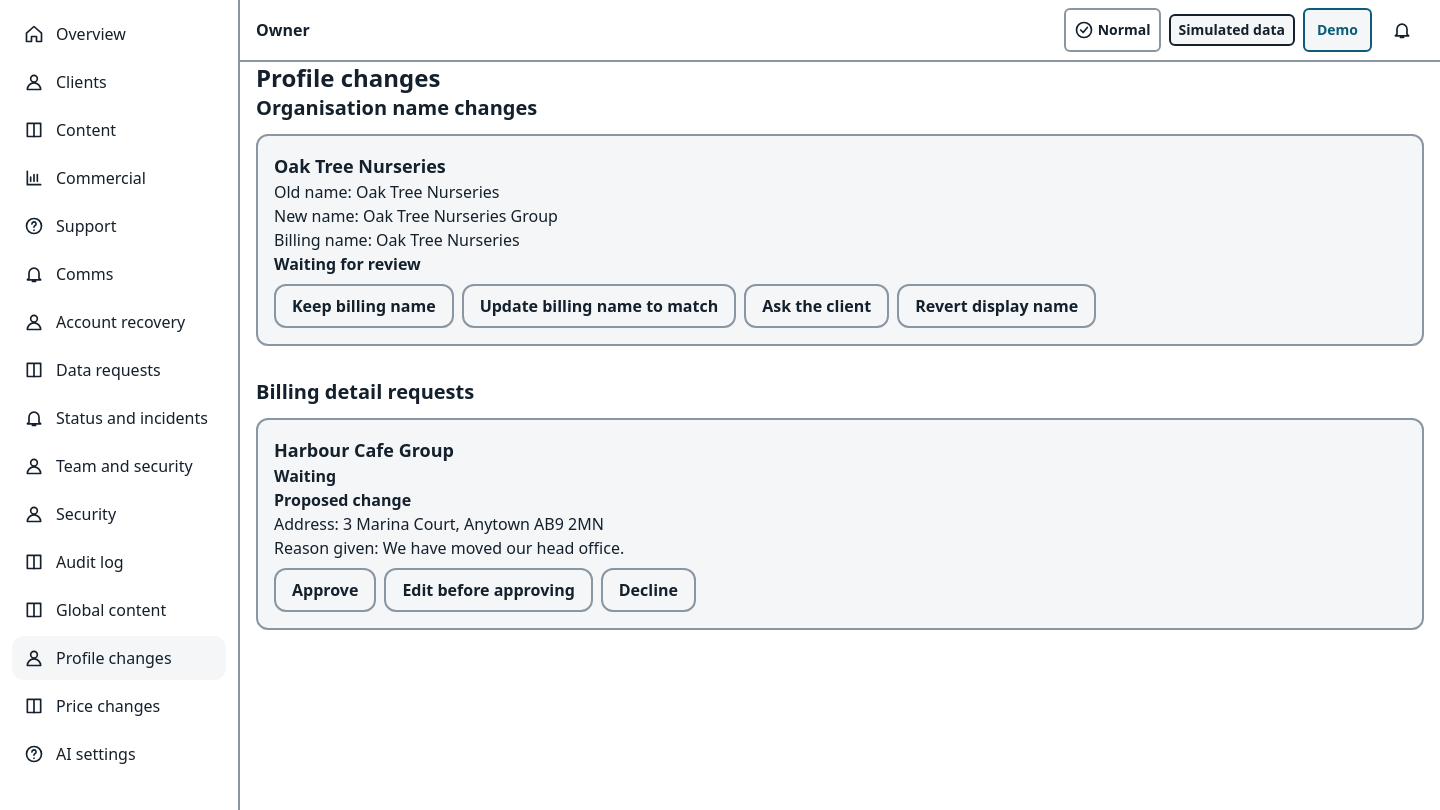
Test case: P24 Profile changes: name changes › Keep billing name records the decision, leaves the billing name alone and confirms
This screenshot has width=1440, height=810.
Expected: the heading "Profile changes" is shown, [256,62,440,94]
Click the button "Keep billing name" at [364, 306], box [274,284,454,328]
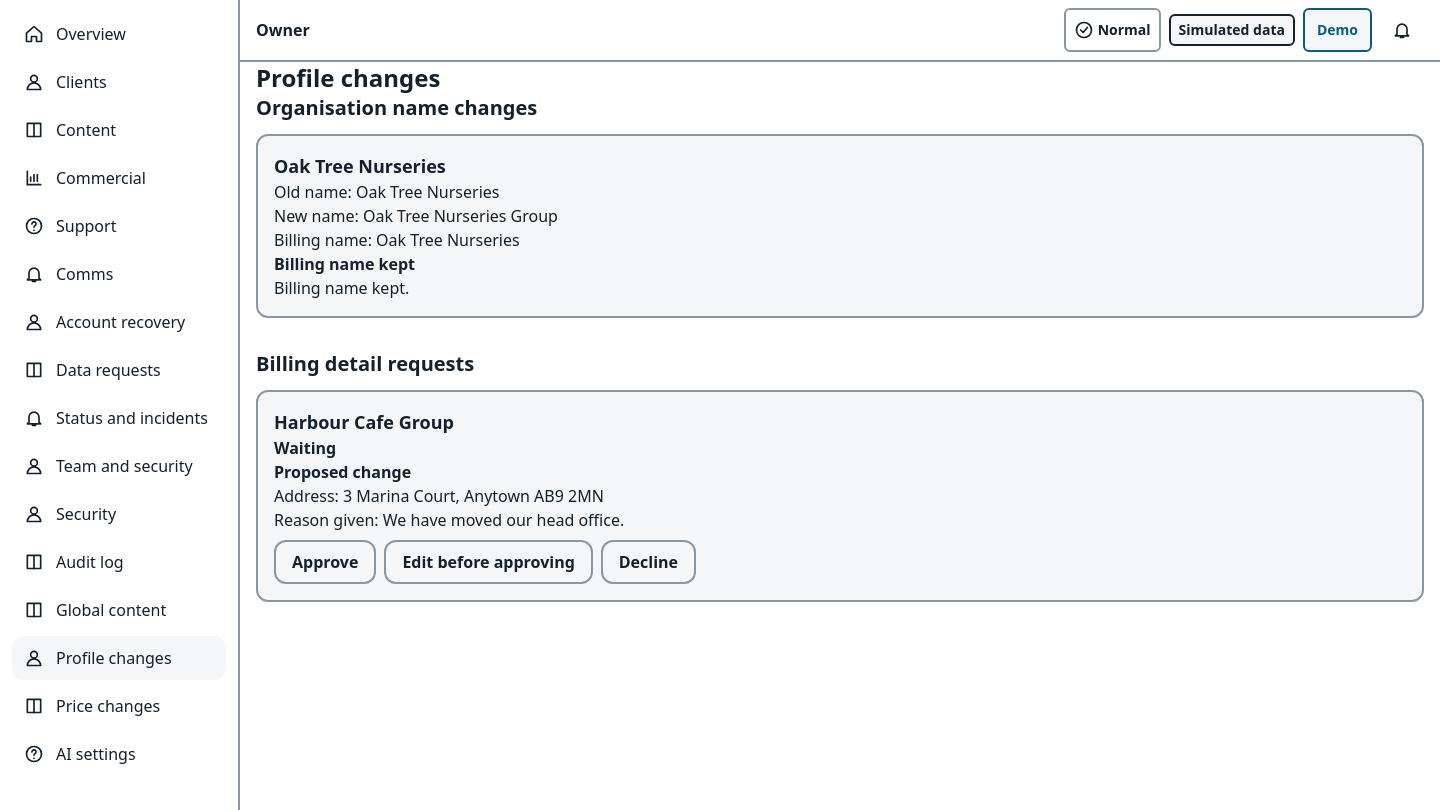
Now the message "Billing name kept." is shown, box [274,277,409,299]
Now the list item with test id "pc-row" shows "Billing name kept", box [274,253,415,275]
Now no buttons "Keep billing name" are shown
